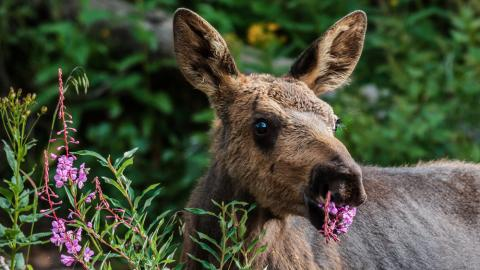moose: (160, 2, 383, 246)
